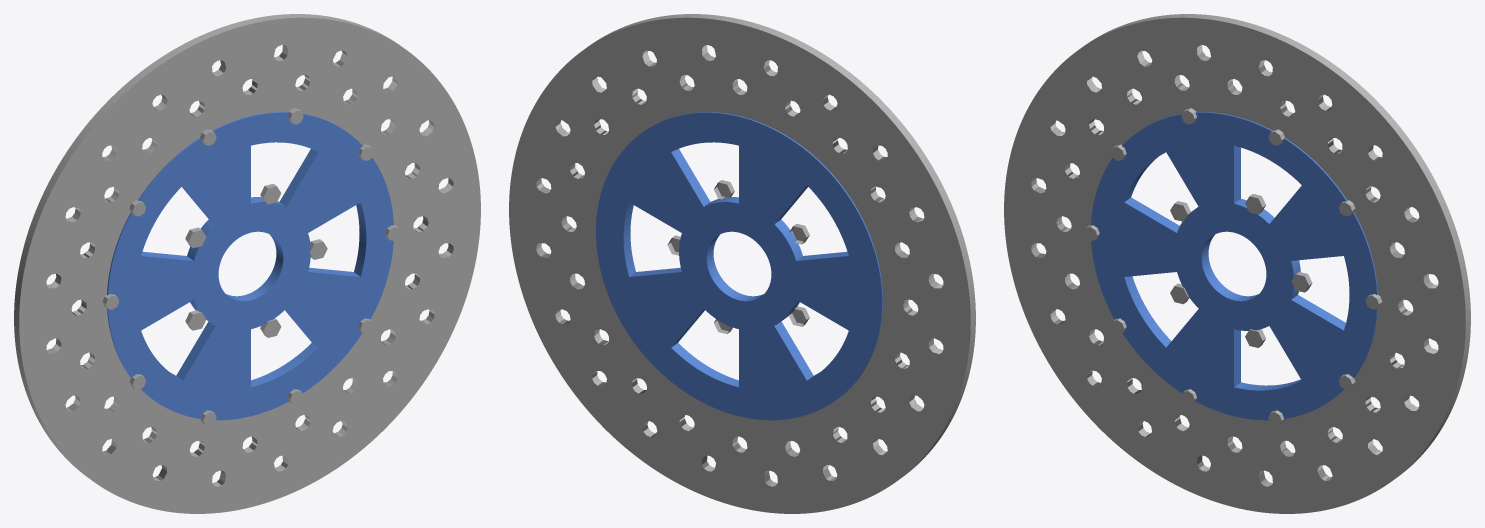
Rendered from floating_310.glb.
3 renders of one model, left to right at view 1: azimuth 30°, elevation 25°; view 2: azimuth 150°, elevation 25°; view 3: azimuth 330°, elevation 25°, orthographic.
Visible parts, largest first — view 1: floating_310; view 2: floating_310; view 3: floating_310.
Boxes of the visible parts, x1,y1,x2,y2 form: floating_310: (14,14,480,513); floating_310: (509,14,975,513); floating_310: (1004,14,1470,513).
Size of the model in its own units: 0.31 by 0.31 by 0.011.
